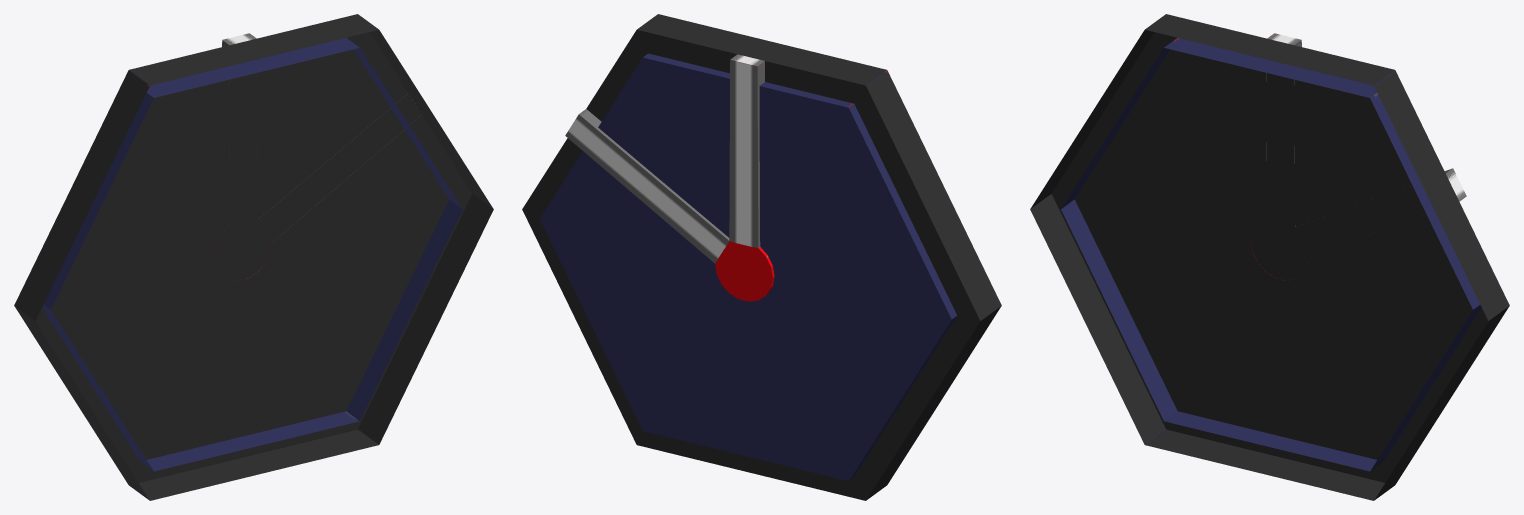
The model's file is Hexagons End 2 Trails.fbx.
3 views of the same model, side by side, from view 1: azimuth 30°, elevation 25°; view 2: azimuth 150°, elevation 25°; view 3: azimuth 330°, elevation 25° (orthographic).
Parts seen in each view (by area): view 1: Cylinder.010; view 2: Cylinder.010; view 3: Cylinder.010.
Part boxes in pixels (x1,y1,x2,y2): Cylinder.010: (14,14,493,500); Cylinder.010: (522,14,1001,500); Cylinder.010: (1030,14,1509,500).
Size of the model in its own units: 14 by 12.12 by 1.53.
1 material, 1 textured.
